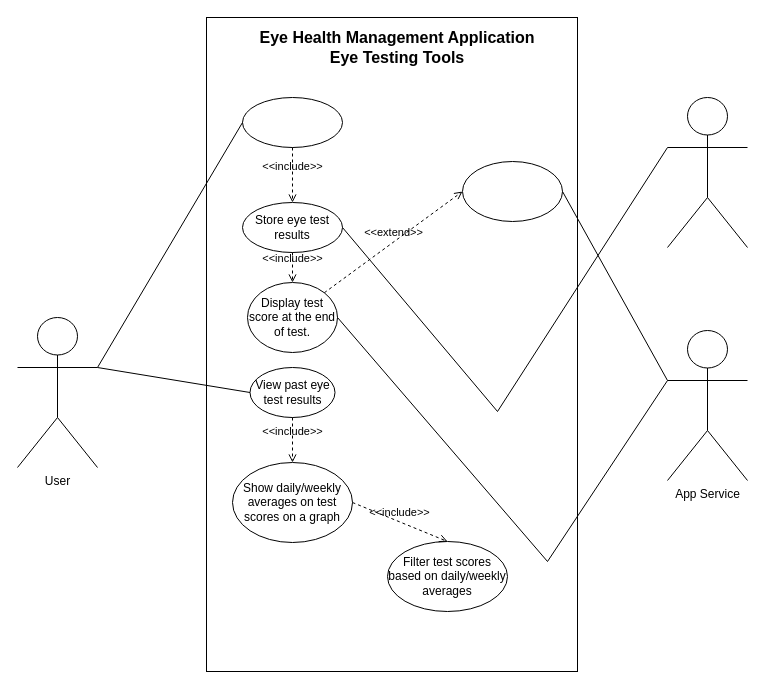
Some shapes in this 765 by 689 pixel diagram are drawn without their labels. Here are the shapes that lost their labels. From the top down, the box of each, then its label:
(242, 96, 342, 148): Perform eye vision test
(462, 160, 562, 222): Informative feedback on eye test
(666, 96, 748, 248): Database
